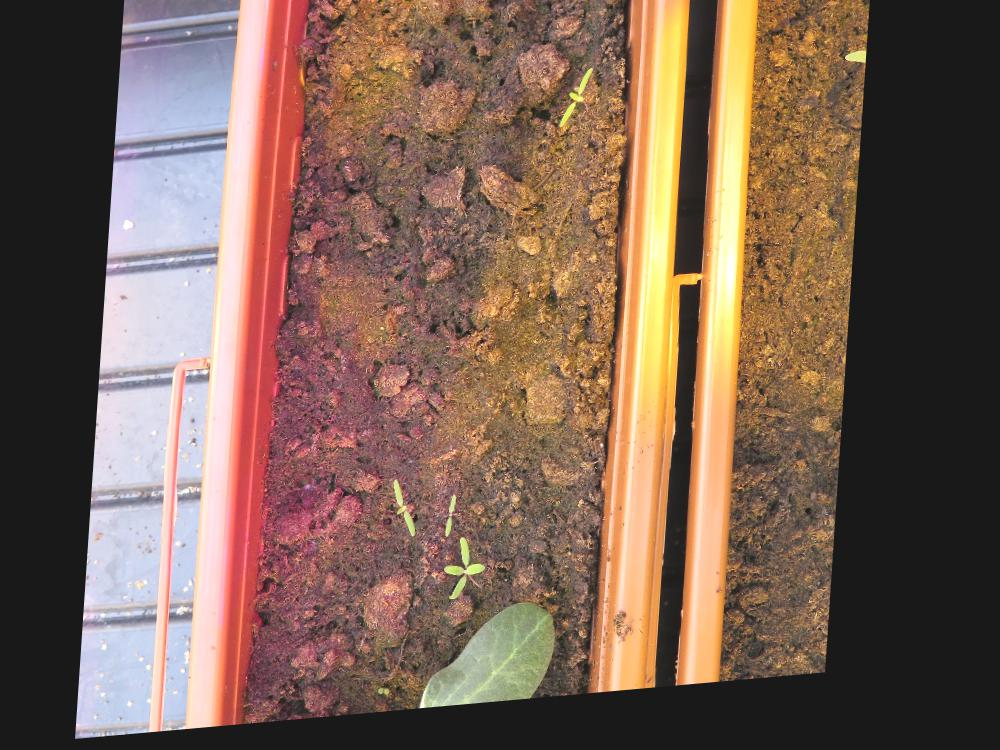weed: (448, 545, 493, 611), (559, 78, 596, 140), (395, 485, 427, 548), (451, 504, 464, 547), (384, 695, 401, 705)
